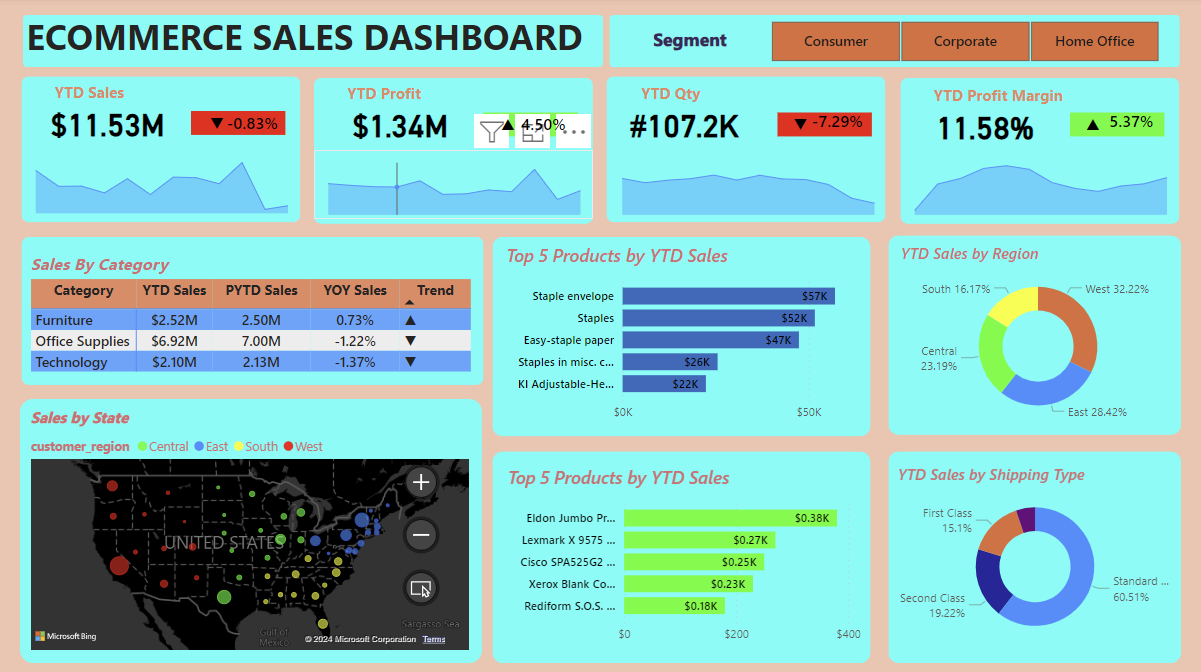

Layout of this report page (visuals, bound fields, positions):
{"tool":"powerbi","page":{"name":"Page 1","canvas":[1280,720],"ordinal":0},"visuals":[{"type":"shape","box":[24.7,19.2,614.8,55],"z":0},{"type":"textbox","box":[24.1,10.9,615.1,63.9],"z":1000},{"type":"shape","box":[24.1,84.4,295.5,154.4],"z":2000},{"type":"card","fields":{"Values":["ecommerce_data.YTD Sales"]},"box":[38.6,104.9,153.2,55.5],"z":3000},{"type":"shape","box":[203.8,120.6,100.1,25.3],"z":4000},{"type":"areaChart","fields":{"Category":["Calendar.Month"],"Y":["Sum(ecommerce_data.sales_per_order)"]},"box":[24.1,160.4,296.7,73.6],"z":5000},{"type":"card","fields":{"Values":["ecommerce_data.YOY Sales"]},"box":[231.6,120.6,72.4,26.5],"z":6000},{"type":"card","fields":{"Values":["ecommerce_data.sales icon"]},"box":[194.2,120.6,73.6,26.5],"z":7000},{"type":"textbox","box":[54.3,84.4,97.7,54.3],"z":8000},{"type":"shape","box":[333.2,85.7,295.5,154.4],"z":9000},{"type":"card","fields":{"Values":["ecommerce_data.YTD Profit"]},"box":[347.7,106.2,153.2,55.5],"z":10000},{"type":"shape","box":[512.9,121.9,100.1,25.3],"z":11000},{"type":"areaChart","fields":{"Category":["Calendar.Month"],"Y":["Sum(ecommerce_data.profit_per_order)"]},"box":[333.2,161.7,296.7,73.6],"z":12000},{"type":"card","fields":{"Values":["ecommerce_data.YOY Profit"]},"box":[540.7,121.9,72.4,26.5],"z":13000},{"type":"card","fields":{"Values":["ecommerce_data.profit icon"]},"box":[502.9,120.6,73.6,25.3],"z":14000},{"type":"textbox","box":[363.4,85.7,97.7,54.3],"z":15000},{"type":"shape","box":[644,84.4,295.5,154.4],"z":16000},{"type":"card","fields":{"Values":["ecommerce_data.YTD Concatenated Qty"]},"box":[659.7,106.1,132.7,55.5],"z":17000},{"type":"shape","box":[824.9,122.3,100.1,25.3],"z":18000},{"type":"areaChart","fields":{"Category":["Calendar.Month"],"Y":["Sum(ecommerce_data.order_quantity)"]},"box":[645.2,162.1,296.7,73.6],"z":19000},{"type":"card","fields":{"Values":["ecommerce_data.YOY Qty"]},"box":[852.7,119.4,72.4,26.5],"z":20000},{"type":"card","fields":{"Values":["ecommerce_data.Qty icon"]},"box":[811.7,120.6,73.6,25.3],"z":21000},{"type":"textbox","box":[675.4,86.1,97.7,54.3],"z":22000},{"type":"shape","box":[955.3,86.4,295.5,154.4],"z":23000},{"type":"shape","box":[1135,122.6,100.1,25.3],"z":24000},{"type":"areaChart","fields":{"Category":["Calendar.Month"],"Y":["ecommerce_data.YTD Profit Margin"]},"box":[955.3,162.4,296.7,73.6],"z":25000},{"type":"card","fields":{"Values":["ecommerce_data.YOY Profit Margin"]},"box":[1162.7,119.7,72.4,26.5],"z":26000},{"type":"card","fields":{"Values":["ecommerce_data.Profit Margin icon"]},"box":[1121.7,121,73.6,25.3],"z":27000},{"type":"textbox","box":[985.3,86.8,149.5,54.3],"z":28000},{"type":"card","fields":{"Values":["ecommerce_data.YTD Profit Margin"]},"box":[968.4,108.5,153.2,55.5],"z":29000},{"type":"shape","box":[24.1,254.5,489.6,156.8],"z":30000},{"type":"pivotTable","title":"Sales By Category","fields":{"Rows":["ecommerce_data.category_name"],"Values":["ecommerce_data.YTD Sales","ecommerce_data.PYTD Sales","ecommerce_data.YOY Sales","ecommerce_data.sales icon"]},"box":[28.9,270.2,484.8,131.5],"z":31000},{"type":"shape","box":[22.9,425.7,489.6,279.8],"z":32000},{"type":"map","title":"Sales by State","fields":{"Y":["us_state_long_lat_codes.latitude"],"X":["us_state_long_lat_codes.longitude"],"Size":["ecommerce_data.YTD Sales"],"Series":["ecommerce_data.customer_region"]},"box":[28.9,434.2,474,262.9],"z":33000},{"type":"shape","box":[523.4,254.5,400.4,211.1],"z":34000},{"type":"shape","box":[523.4,481.2,400.4,224.3],"z":35000},{"type":"barChart","title":"Top 5 Products by YTD Sales ","fields":{"Category":["ecommerce_data.product_name"],"Y":["ecommerce_data.YTD Sales"]},"box":[531.9,260.5,383.5,196.6],"z":36000},{"type":"barChart","title":"Top 5 Products by YTD Sales ","fields":{"Category":["ecommerce_data.product_name"],"Y":["ecommerce_data.YTD Sales"]},"box":[534.3,495.7,383.5,196.6],"z":37000},{"type":"shape","box":[941.9,253.3,309.9,211.1],"z":38000},{"type":"shape","box":[941.9,481.2,309.9,224.3],"z":39000},{"type":"donutChart","title":"YTD Sales by Region","fields":{"Category":["ecommerce_data.customer_region"],"Y":["ecommerce_data.YTD Sales"]},"box":[950.4,260.5,300.3,196.6],"z":40000},{"type":"donutChart","title":"YTD Sales by Shipping Type","fields":{"Y":["ecommerce_data.YTD Sales"],"Category":["ecommerce_data.shipping_type"]},"box":[947.9,494.5,300.3,196.6],"z":41000},{"type":"shape","box":[647.6,19.3,604.2,55.5],"z":42000},{"type":"slicer","fields":{"Values":["ecommerce_data.customer_segment"]},"box":[792.4,19.3,459.5,55.5],"z":43000},{"type":"textbox","box":[688.6,27.7,104.9,38.6],"z":44000}]}

Visuals, with their boxes in screenshot pixels (x1, y1, x2, y2), scaled from the page's 1280x720 canvas onto the 1201x672 screenshot:
shape: left=23, top=18, right=600, bottom=69
textbox: left=23, top=10, right=600, bottom=70
shape: left=23, top=79, right=300, bottom=223
card - ecommerce_data.YTD Sales: left=36, top=98, right=180, bottom=150
shape: left=191, top=113, right=285, bottom=136
areaChart - Calendar.Month x Sum(ecommerce_data.sales_per_order): left=23, top=150, right=301, bottom=218
card - ecommerce_data.YOY Sales: left=217, top=113, right=285, bottom=137
card - ecommerce_data.sales icon: left=182, top=113, right=251, bottom=137
textbox: left=51, top=79, right=143, bottom=129
shape: left=313, top=80, right=590, bottom=224
card - ecommerce_data.YTD Profit: left=326, top=99, right=470, bottom=151
shape: left=481, top=114, right=575, bottom=137
areaChart - Calendar.Month x Sum(ecommerce_data.profit_per_order): left=313, top=151, right=591, bottom=220
card - ecommerce_data.YOY Profit: left=507, top=114, right=575, bottom=139
card - ecommerce_data.profit icon: left=472, top=113, right=541, bottom=136
textbox: left=341, top=80, right=433, bottom=131
shape: left=604, top=79, right=882, bottom=223
card - ecommerce_data.YTD Concatenated Qty: left=619, top=99, right=743, bottom=151
shape: left=774, top=114, right=868, bottom=138
areaChart - Calendar.Month x Sum(ecommerce_data.order_quantity): left=605, top=151, right=884, bottom=220
card - ecommerce_data.YOY Qty: left=800, top=111, right=868, bottom=136
card - ecommerce_data.Qty icon: left=762, top=113, right=831, bottom=136
textbox: left=634, top=80, right=725, bottom=131
shape: left=896, top=81, right=1174, bottom=225
shape: left=1065, top=114, right=1159, bottom=138
areaChart - Calendar.Month x ecommerce_data.YTD Profit Margin: left=896, top=152, right=1175, bottom=220
card - ecommerce_data.YOY Profit Margin: left=1091, top=112, right=1159, bottom=136
card - ecommerce_data.Profit Margin icon: left=1052, top=113, right=1122, bottom=137
textbox: left=924, top=81, right=1065, bottom=132
card - ecommerce_data.YTD Profit Margin: left=909, top=101, right=1052, bottom=153
shape: left=23, top=238, right=482, bottom=384
"Sales By Category" pivotTable: left=27, top=252, right=482, bottom=375
shape: left=21, top=397, right=481, bottom=658
"Sales by State" map: left=27, top=405, right=472, bottom=651
shape: left=491, top=238, right=867, bottom=435
shape: left=491, top=449, right=867, bottom=658
"Top 5 Products by YTD Sales " barChart: left=499, top=243, right=859, bottom=427
"Top 5 Products by YTD Sales " barChart: left=501, top=463, right=861, bottom=646
shape: left=884, top=236, right=1175, bottom=433
shape: left=884, top=449, right=1175, bottom=658
"YTD Sales by Region" donutChart: left=892, top=243, right=1174, bottom=427
"YTD Sales by Shipping Type" donutChart: left=889, top=462, right=1171, bottom=645
shape: left=608, top=18, right=1175, bottom=70
slicer - ecommerce_data.customer_segment: left=743, top=18, right=1175, bottom=70
textbox: left=646, top=26, right=745, bottom=62
